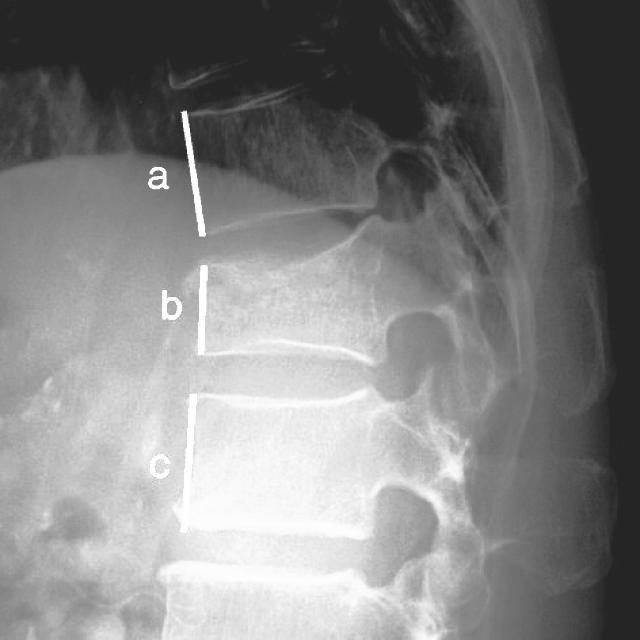Compression-Crush Fracutre: (189, 137, 449, 273)
